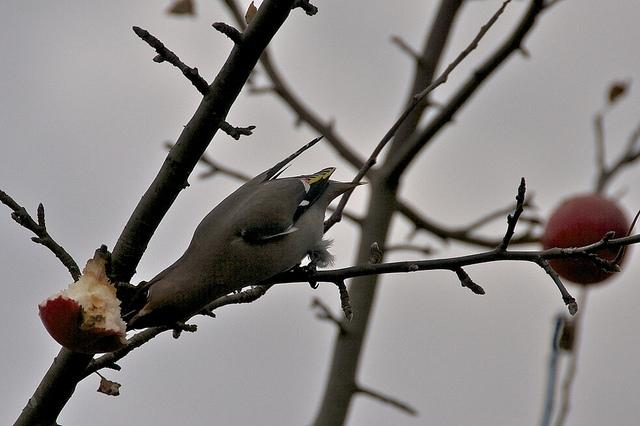apple: (39, 255, 132, 356), (544, 195, 628, 286)
